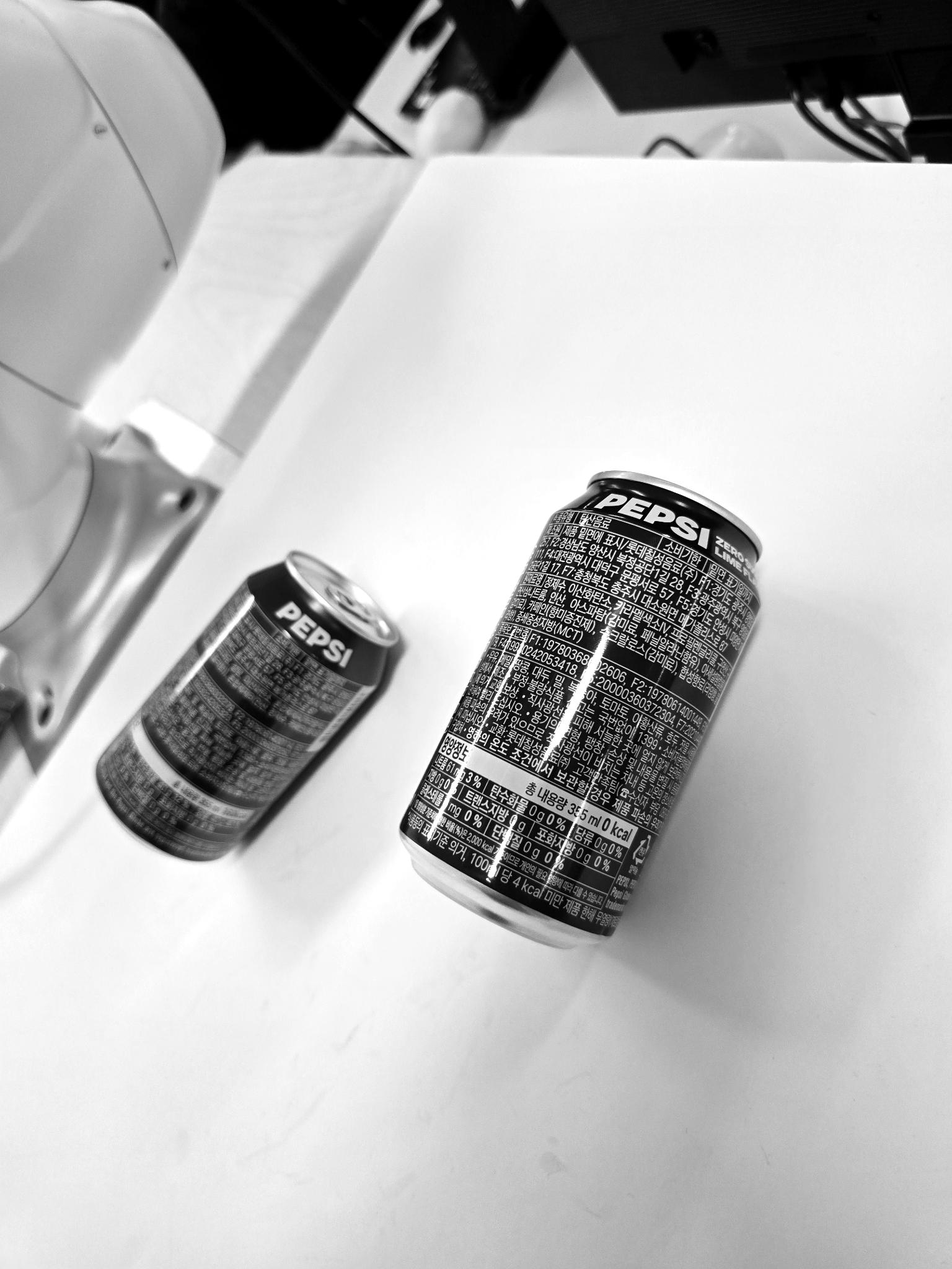can_pepsi: (86, 559, 398, 865)
can_pepsi_zero: (395, 477, 766, 958)
